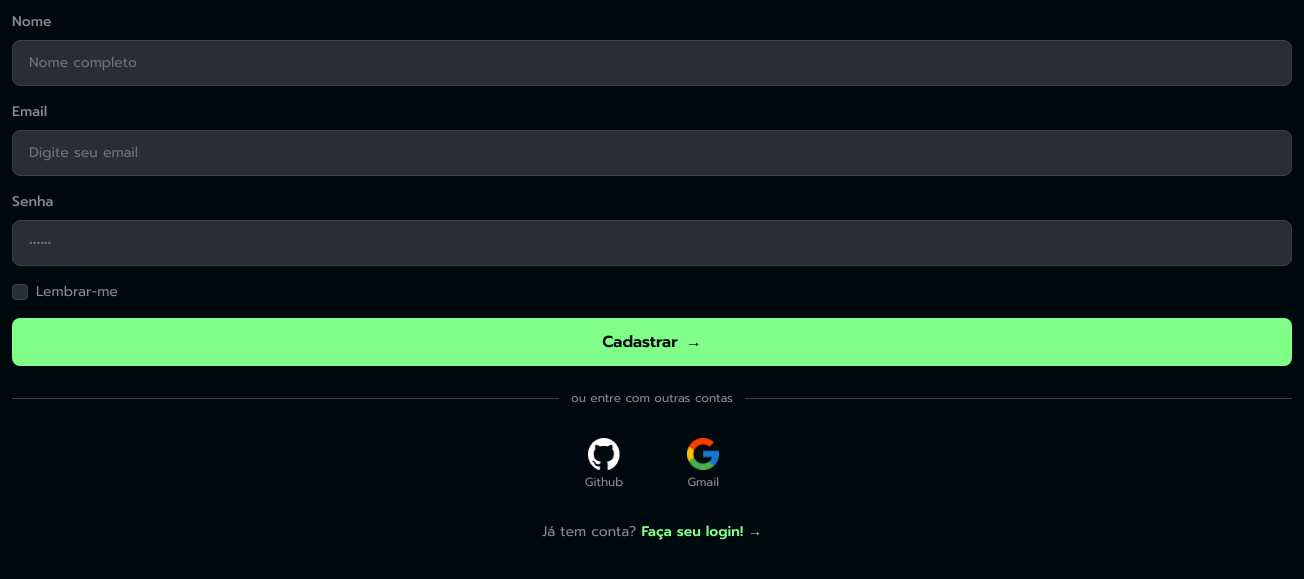
Scenario: RegisterForm › shows invalid email error
Type "João Silva" into the field labelled "Nome". click: (652, 63)
box: x1=12 y1=40 x2=1292 y2=86
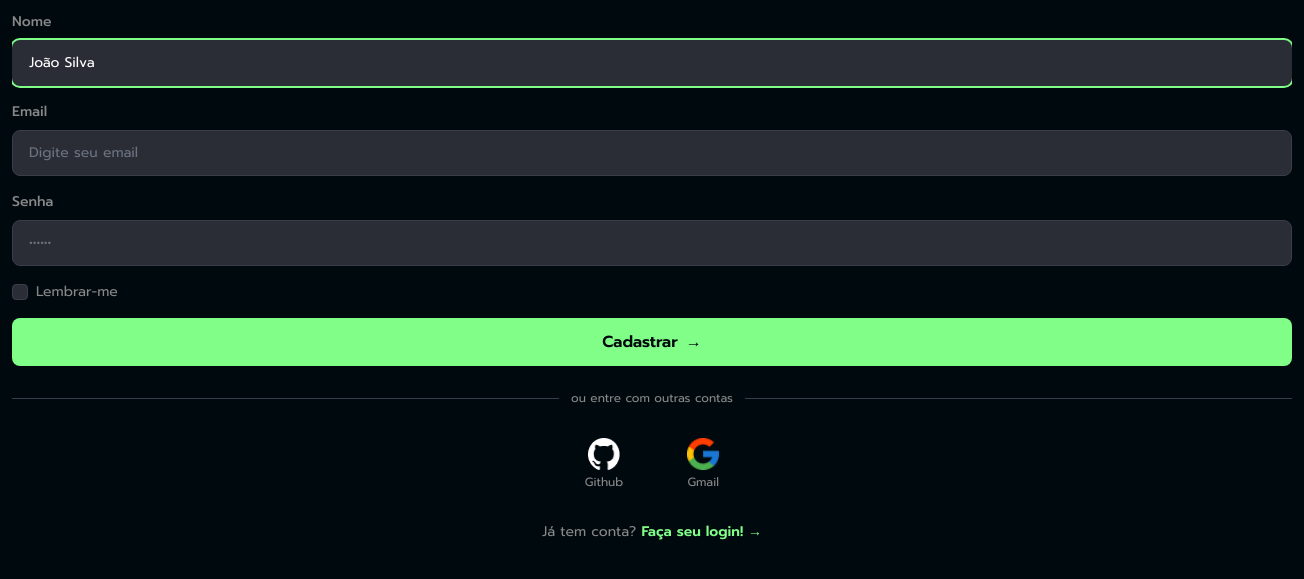
Type "nao-e-email" into the field labelled "Email". click: (652, 153)
box: x1=12 y1=130 x2=1292 y2=176
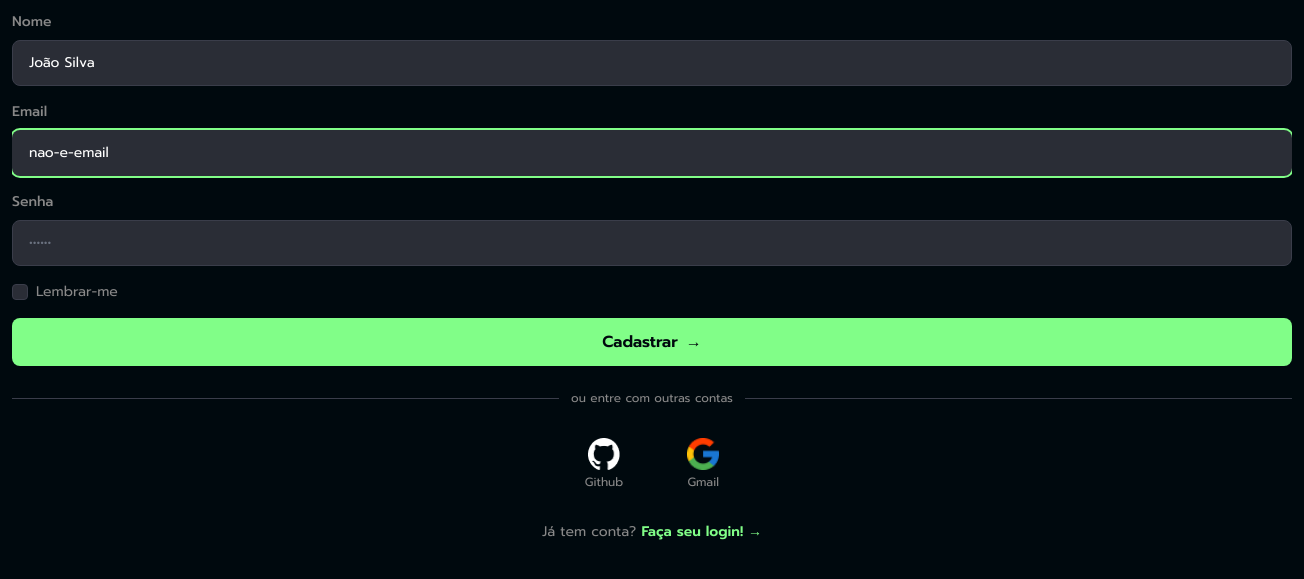
Type "senha123" into the password field labelled "Senha". click: (652, 243)
box: x1=12 y1=220 x2=1292 y2=266
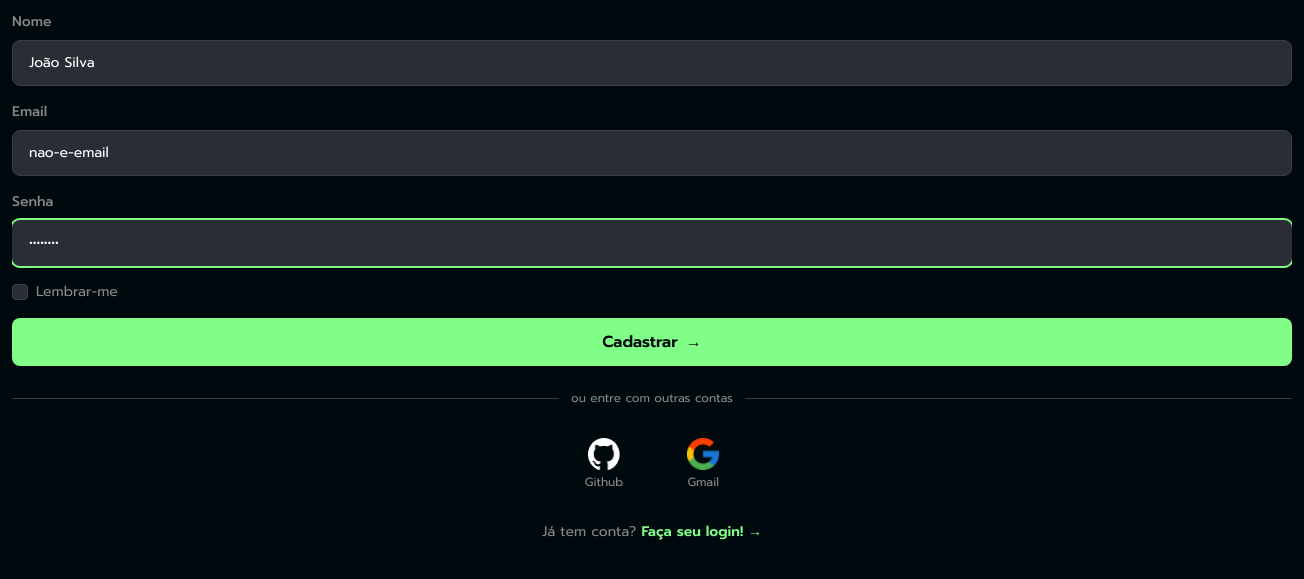
Click the button "Cadastrar →". click: (652, 342)
box: x1=12 y1=318 x2=1292 y2=366
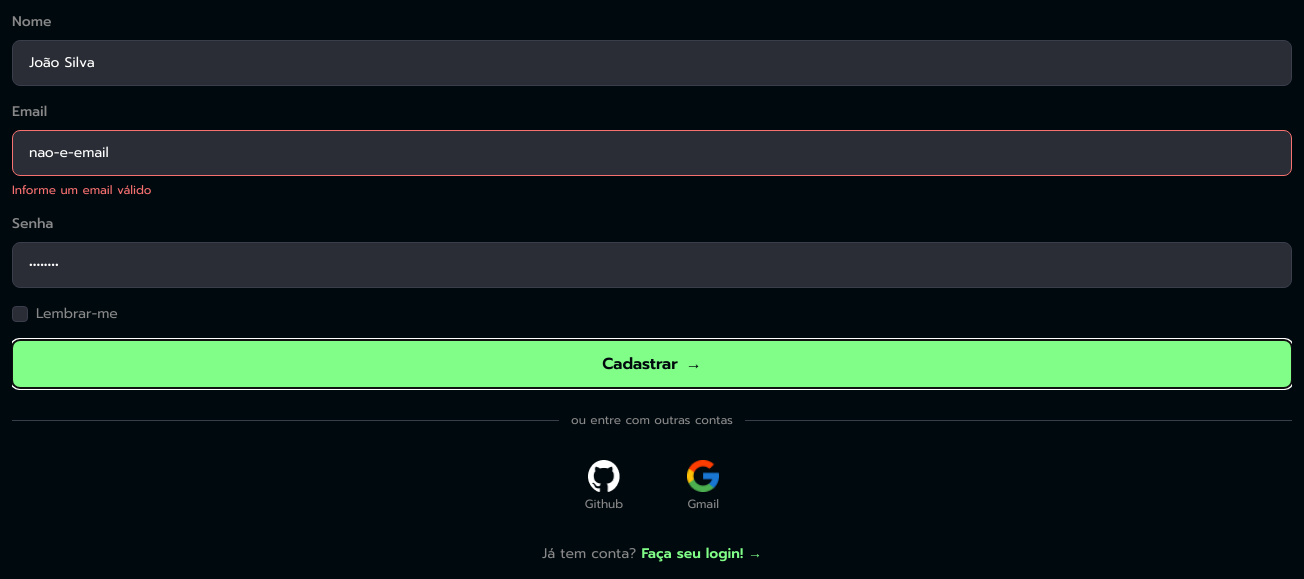
Result: the text "Informe um email válido" is shown at x1=12 y1=181 x2=152 y2=199
